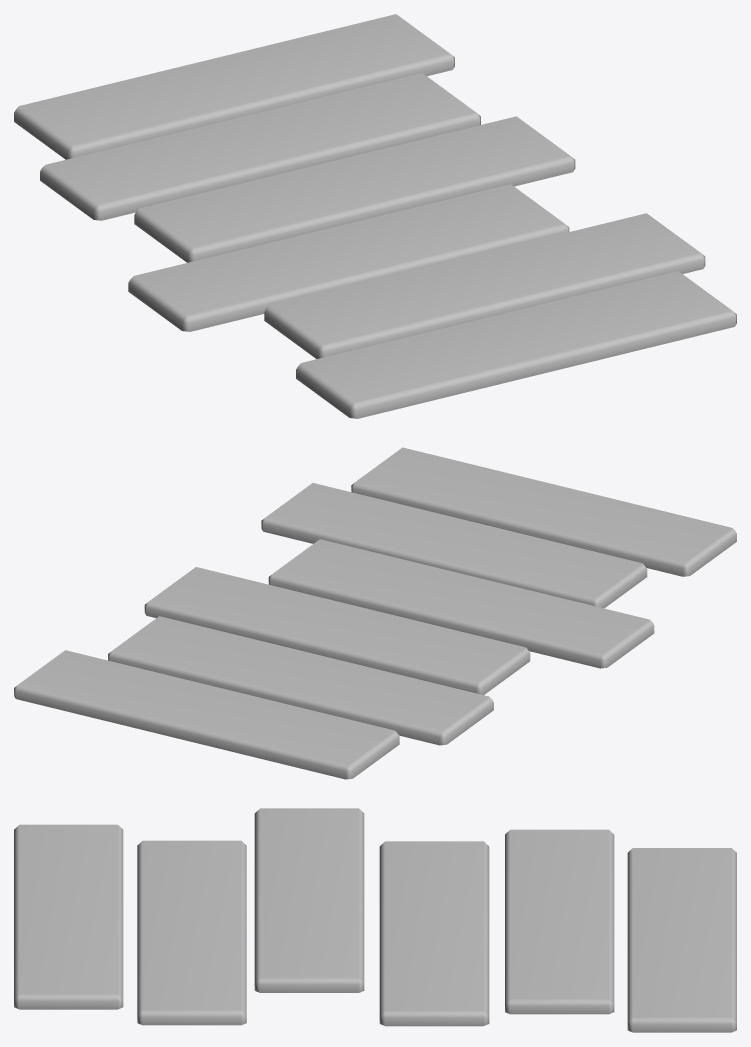
Rendered from Town_5_Path_1.glb.
The picture shows the model from 3 angles, top to bottom: view 1: azimuth 30°, elevation 25°; view 2: azimuth 150°, elevation 25°; view 3: azimuth 270°, elevation 25°; orthographic projection. The views are drawn at different scales.
Visible parts, largest first — view 1: Town_5_Path_1; view 2: Town_5_Path_1; view 3: Town_5_Path_1.
Part boxes in pixels (bbox=[...]): Town_5_Path_1: bbox=[14, 14, 736, 418]; Town_5_Path_1: bbox=[14, 447, 736, 779]; Town_5_Path_1: bbox=[14, 808, 736, 1032].
Bounding box in the file's own units: 2.02 × 0.059 × 2.89.
Materials: 1 (1 with a texture image).
